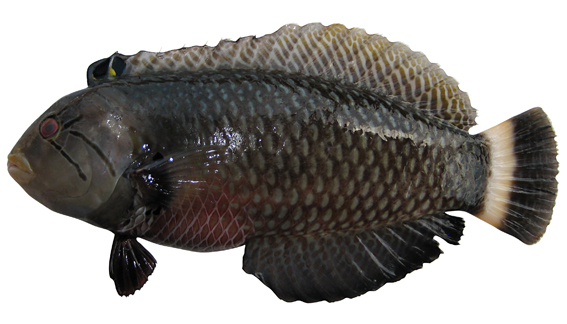fish: (7, 22, 559, 304)
